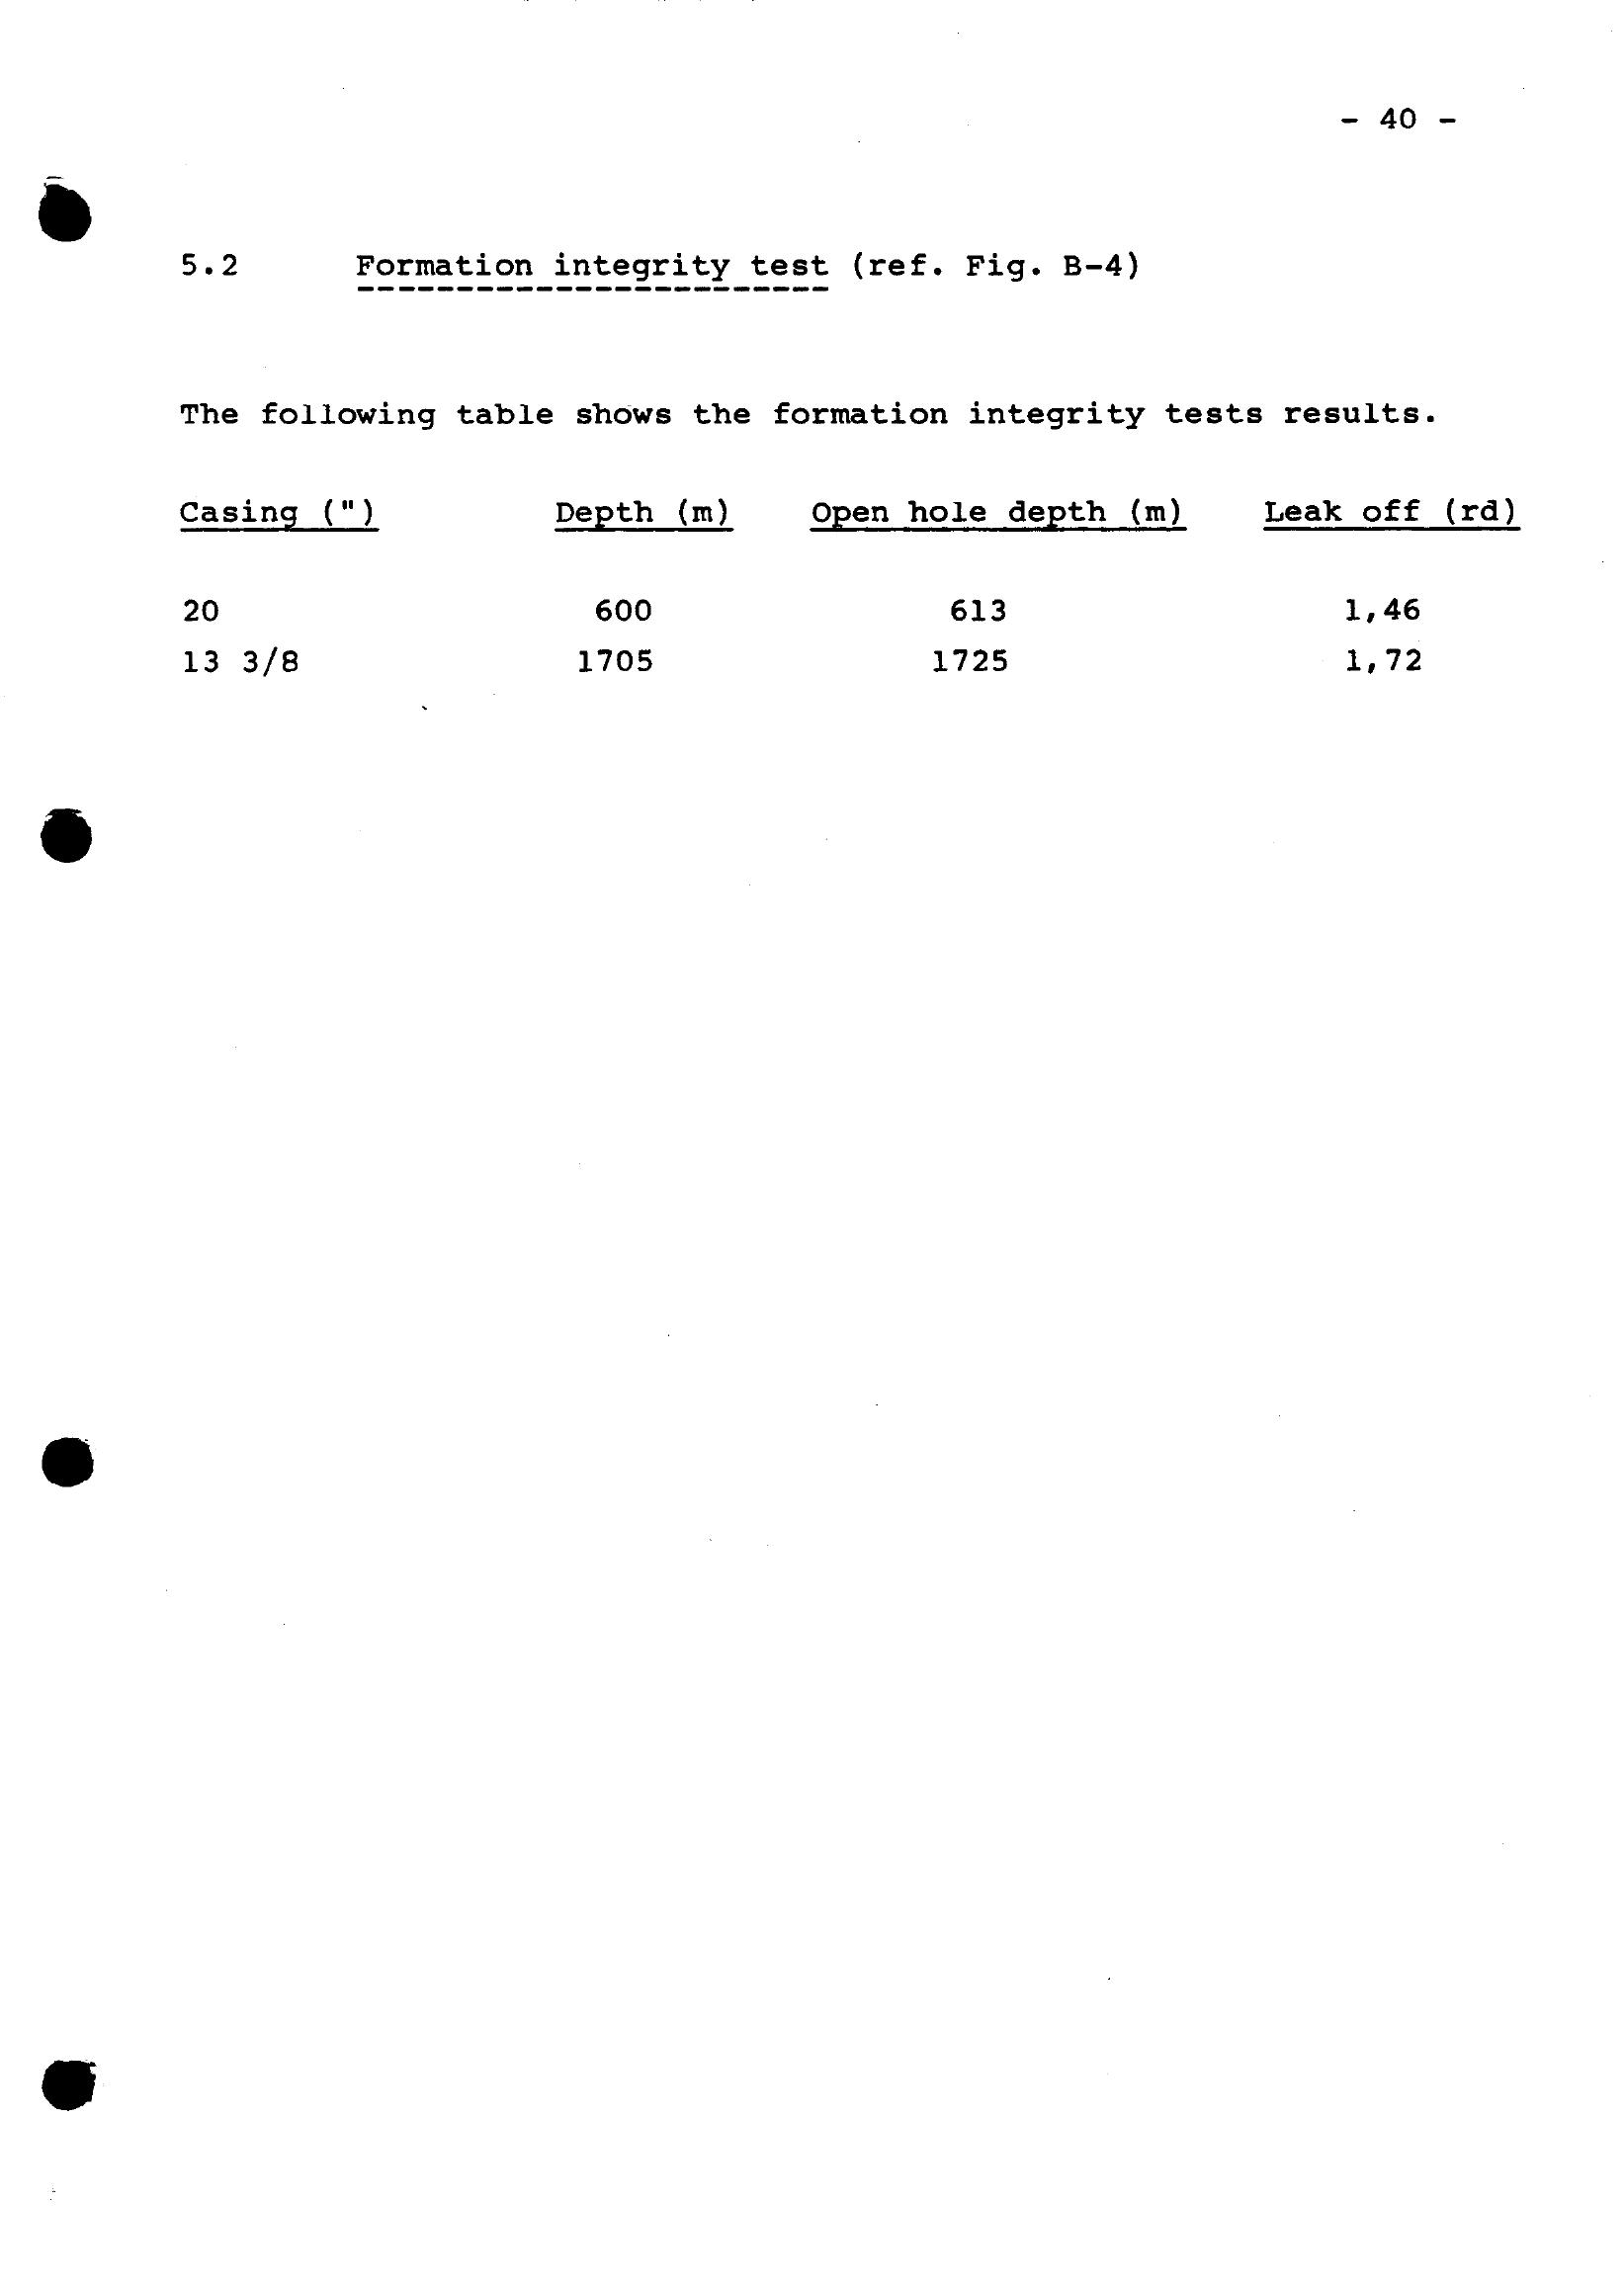table: (132, 481, 1548, 694)
text: (162, 243, 1482, 457)
